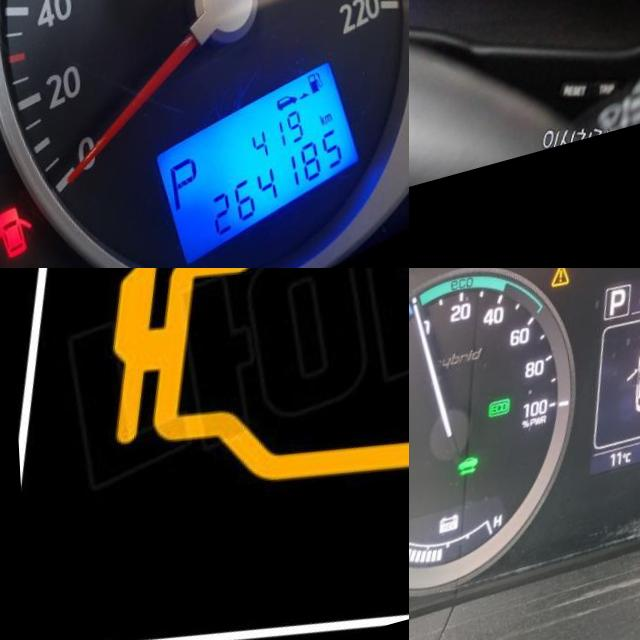Central Warning lamp: (545, 272, 569, 304)
Doors: (0, 205, 31, 268)
